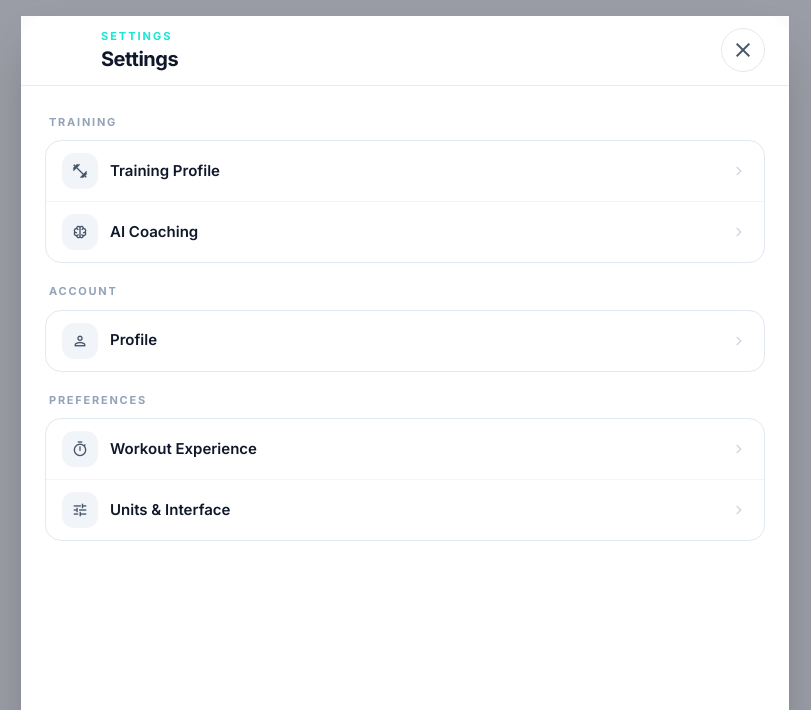
Test case: SettingsDrawer primary goal availability › keeps Hypertrophy selectable and shows Strength and Mixed as locked
This screenshot has width=811, height=710.
Click the button "Training Profile". click: x=80, y=171
box: [46, 141, 764, 201]
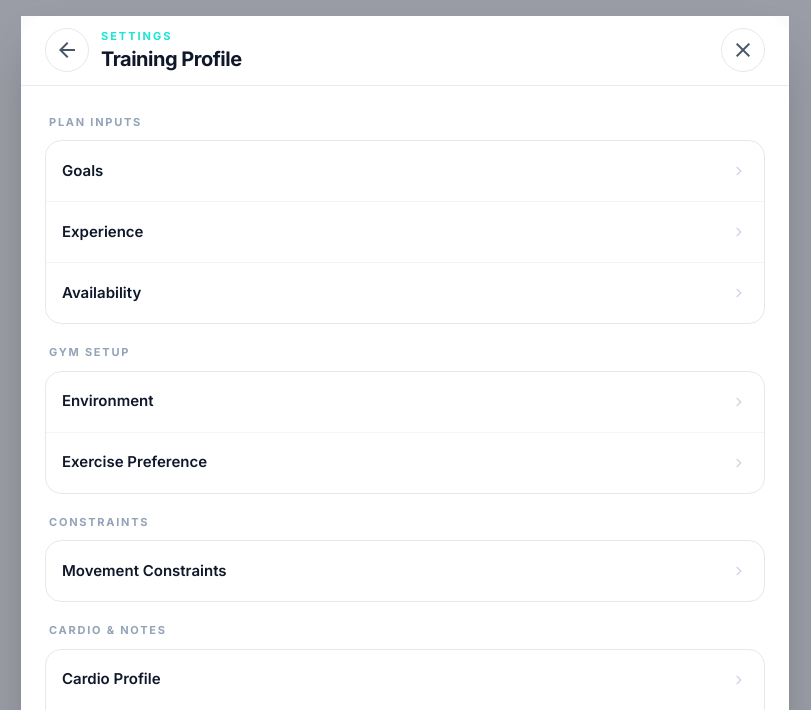
Now the heading "Training Profile" is shown, box [101, 44, 242, 72]
Click the button "Goals". click: x=83, y=170
box: [46, 141, 764, 201]
Wait 700 ms
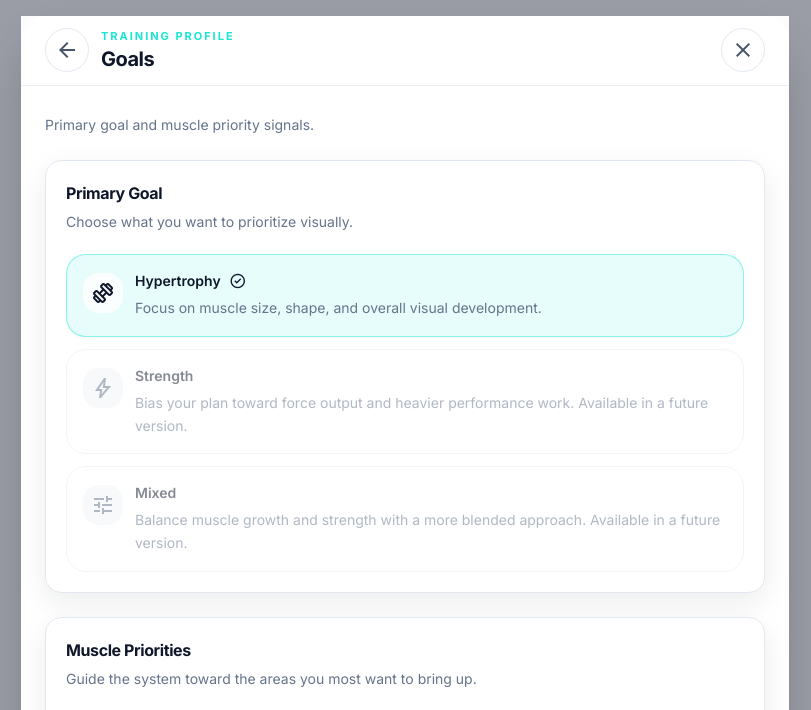
Now the button "Hypertrophy" is enabled, box [66, 254, 744, 337]
Now the button "Strength" is disabled, box [66, 349, 744, 454]
Now the button "Mixed" is disabled, box [66, 466, 744, 572]
